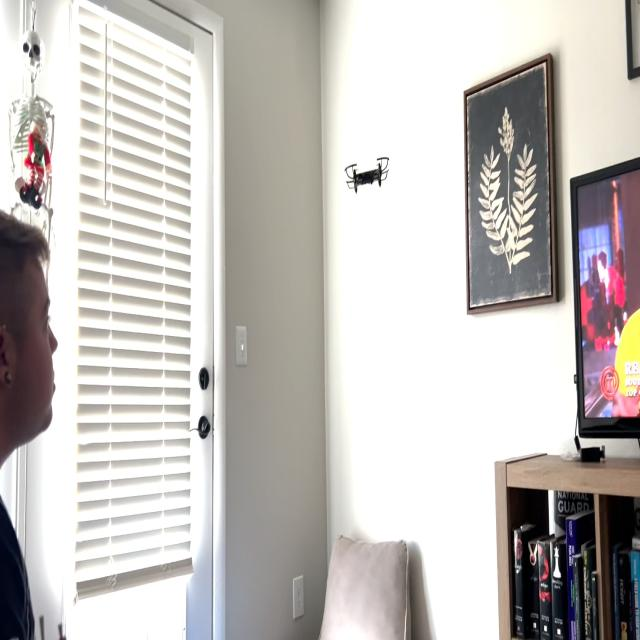drone: (336, 145, 398, 209)
